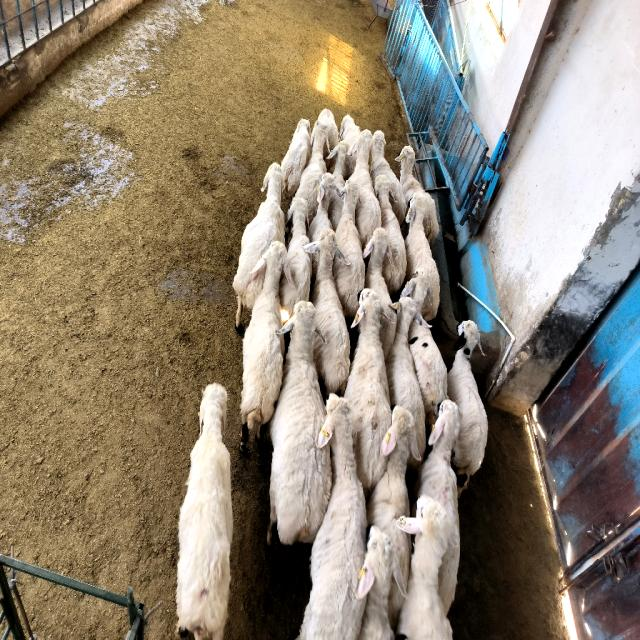sheep: (299, 393, 366, 638), (396, 398, 460, 638), (268, 302, 331, 544), (176, 383, 232, 638), (240, 240, 290, 449), (344, 288, 391, 496), (366, 405, 418, 582), (232, 163, 285, 331), (398, 495, 452, 640), (304, 228, 350, 392), (448, 320, 488, 494), (386, 297, 425, 458), (332, 180, 365, 317), (405, 195, 440, 322), (364, 227, 396, 358), (395, 147, 439, 242), (358, 525, 394, 640), (409, 320, 448, 426), (279, 197, 311, 315), (349, 130, 381, 248), (375, 175, 406, 294), (370, 130, 406, 224), (295, 122, 329, 221), (281, 118, 311, 197), (328, 142, 350, 229), (308, 173, 334, 242), (401, 268, 430, 313), (318, 108, 339, 148), (389, 585, 404, 629), (340, 115, 360, 146)
